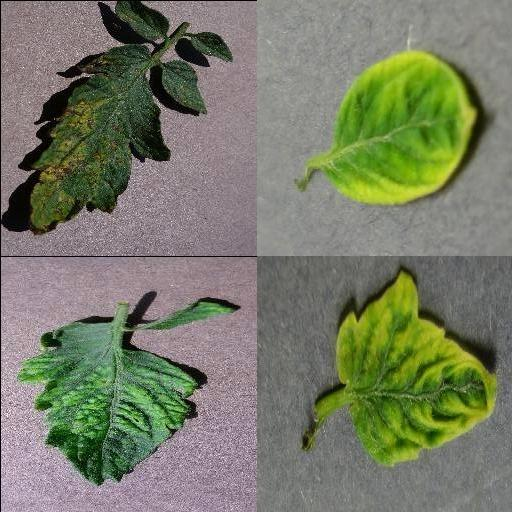Mosaic Virus: (16, 320, 198, 488), (139, 299, 237, 331)
Septoria: (29, 44, 167, 236)
Yellow Leaf Curl Virus: (333, 271, 499, 469), (324, 51, 478, 205)
